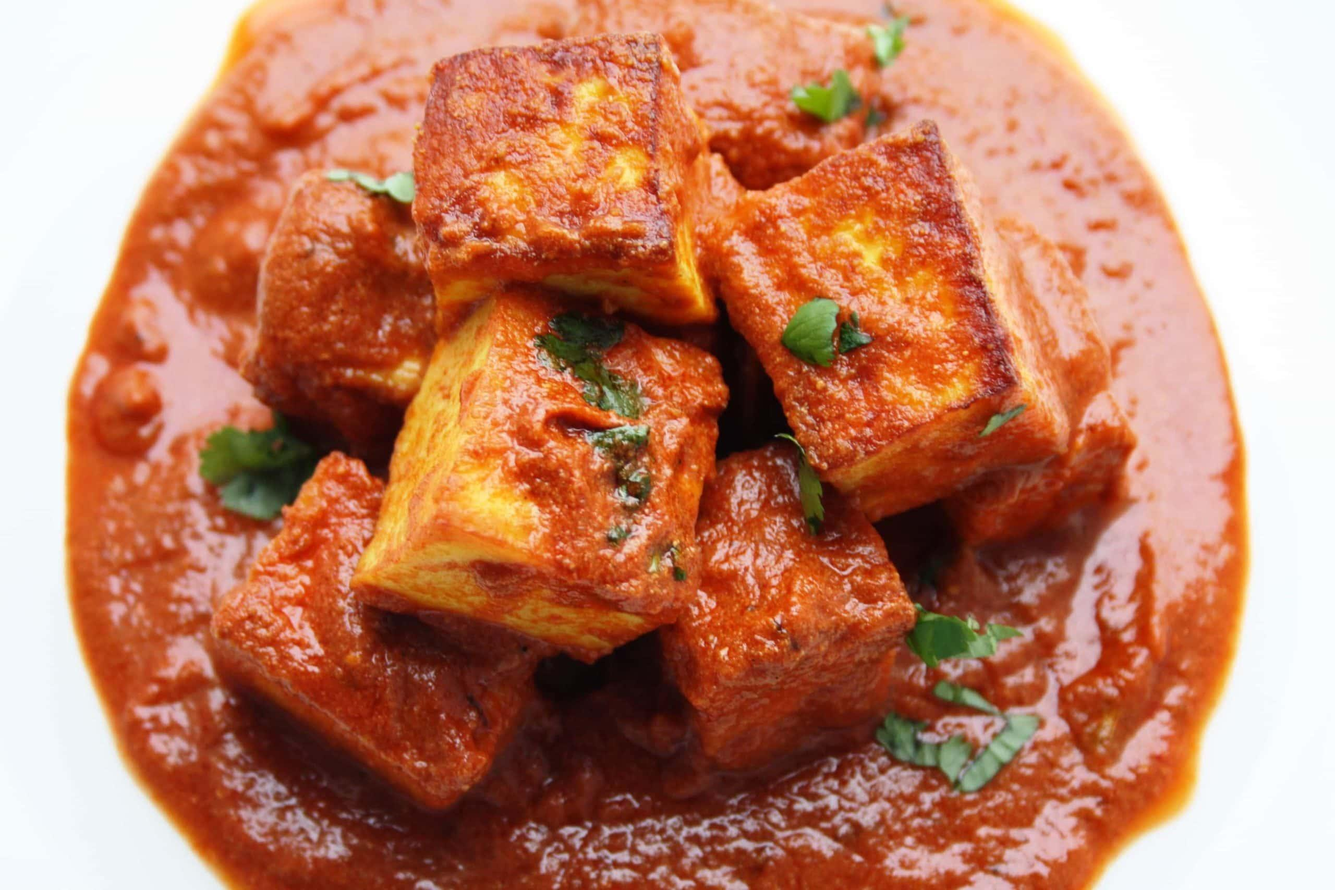paneer: (272, 84, 979, 730)
